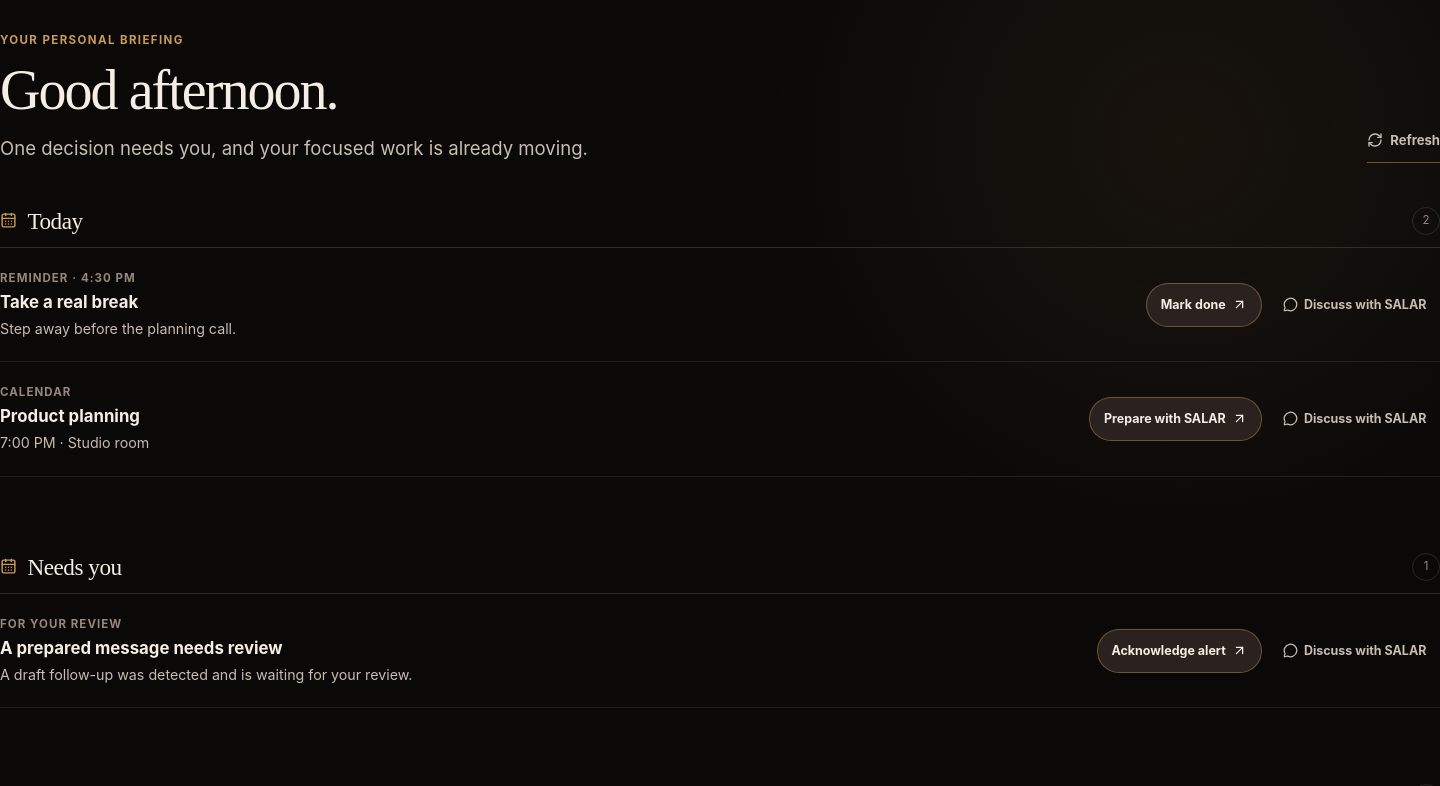
Test case: Briefing › keeps a backend-declared confirmed failure open and refresh-gated
This screenshot has width=1440, height=786.
Click the button "Acknowledge alert" at (1179, 651), box [1097,629,1262,673]
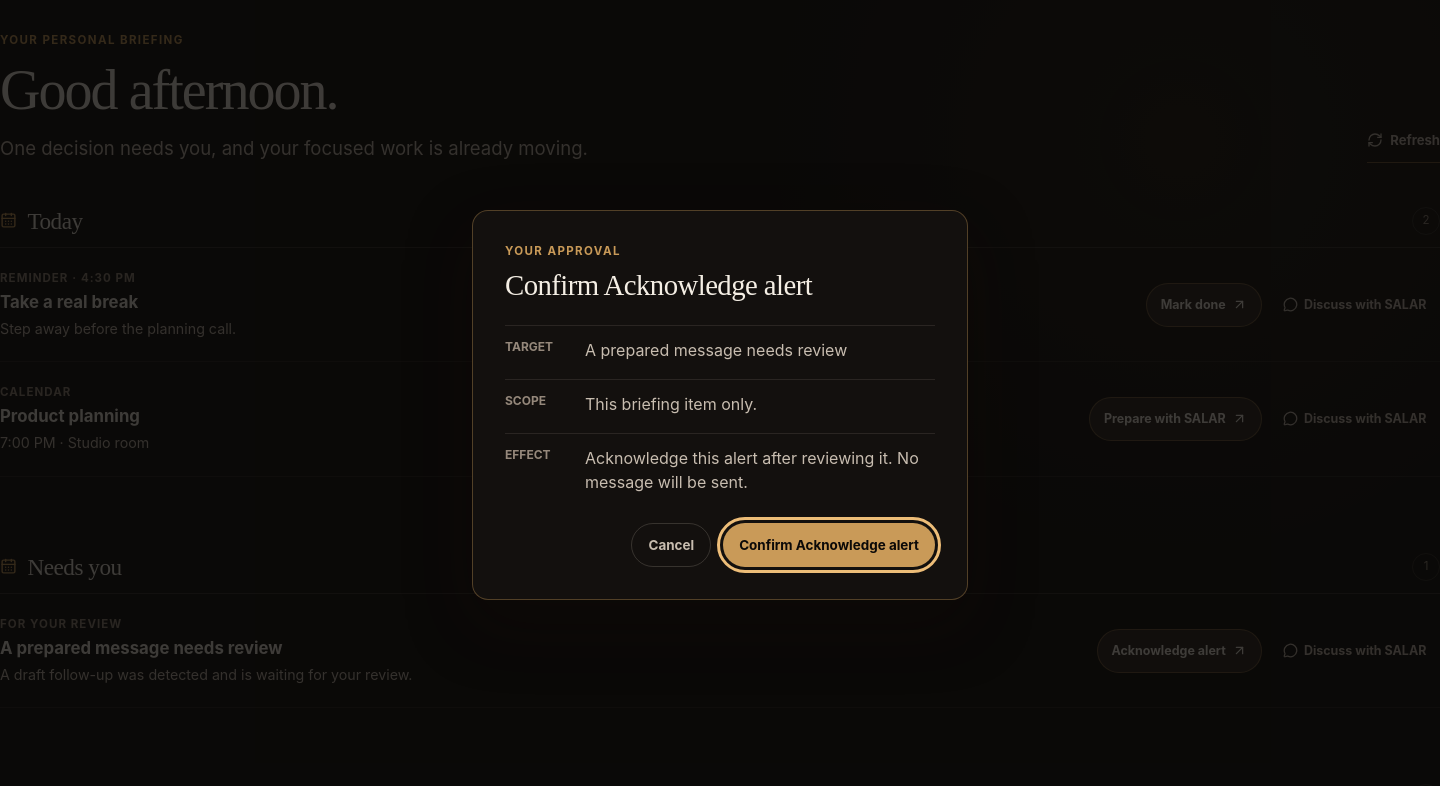
Click the button "Confirm Acknowledge alert" at (829, 545), box [723,523,935,567]
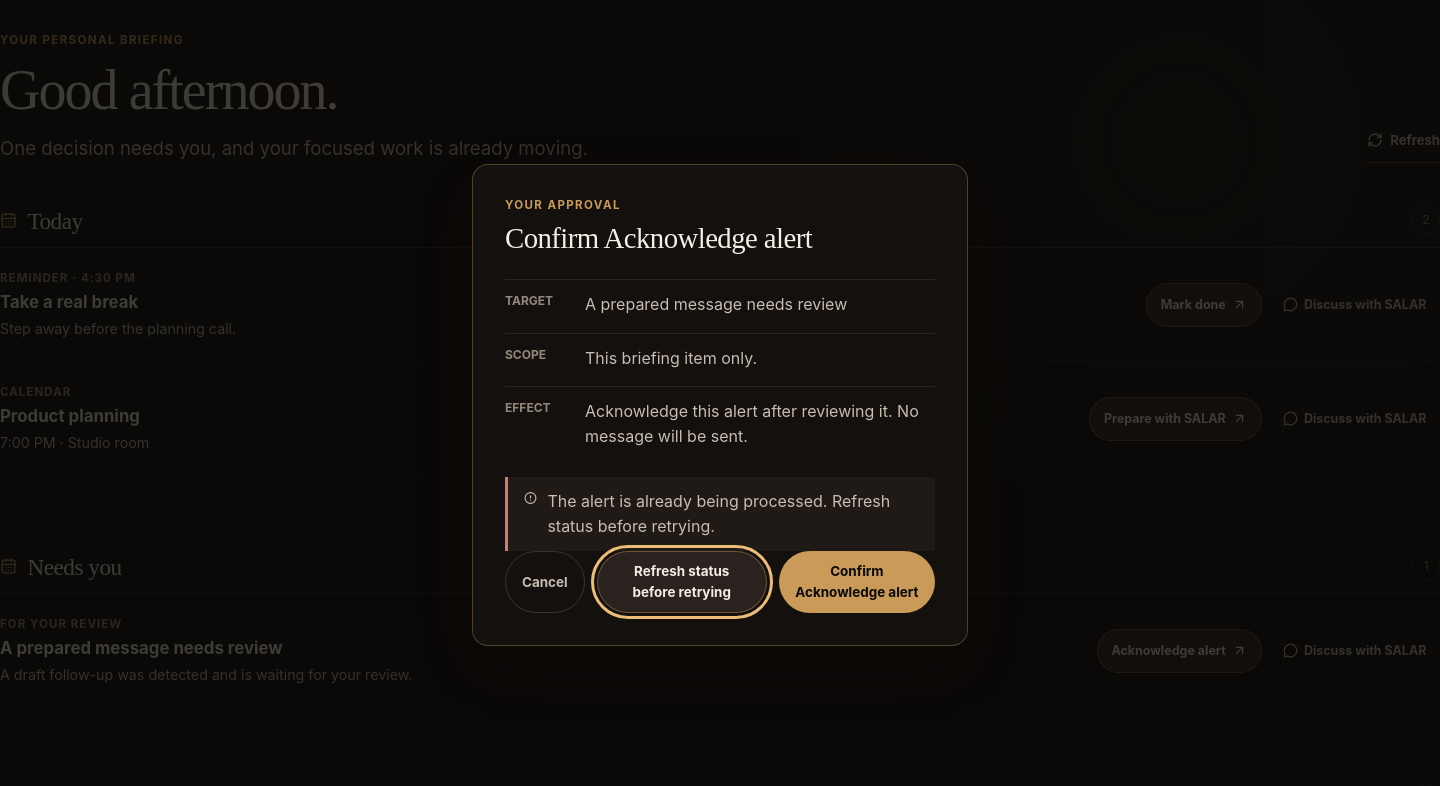
Now the message reads "The alert is already being processed. Refresh status before retrying.", box [547,491,890,536]
Now the button "Confirm Acknowledge alert" is disabled, box [779,550,935,613]
Now the button "Refresh status before retrying" is enabled, box [597,550,767,613]
